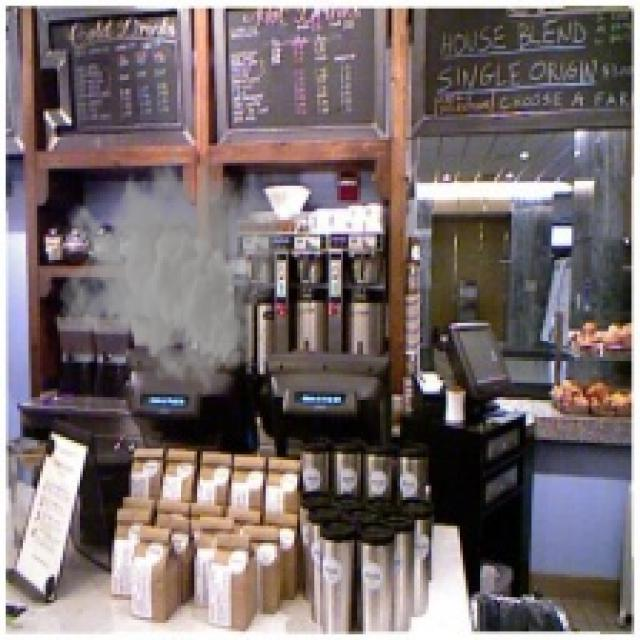smoke: (57, 137, 286, 394)
